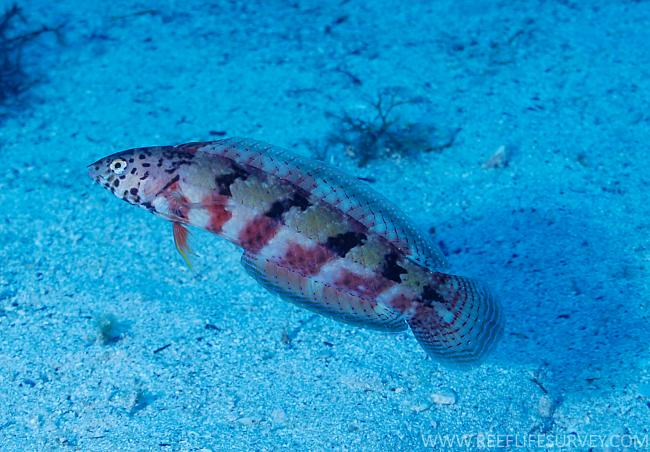fish: (84, 136, 505, 373)
